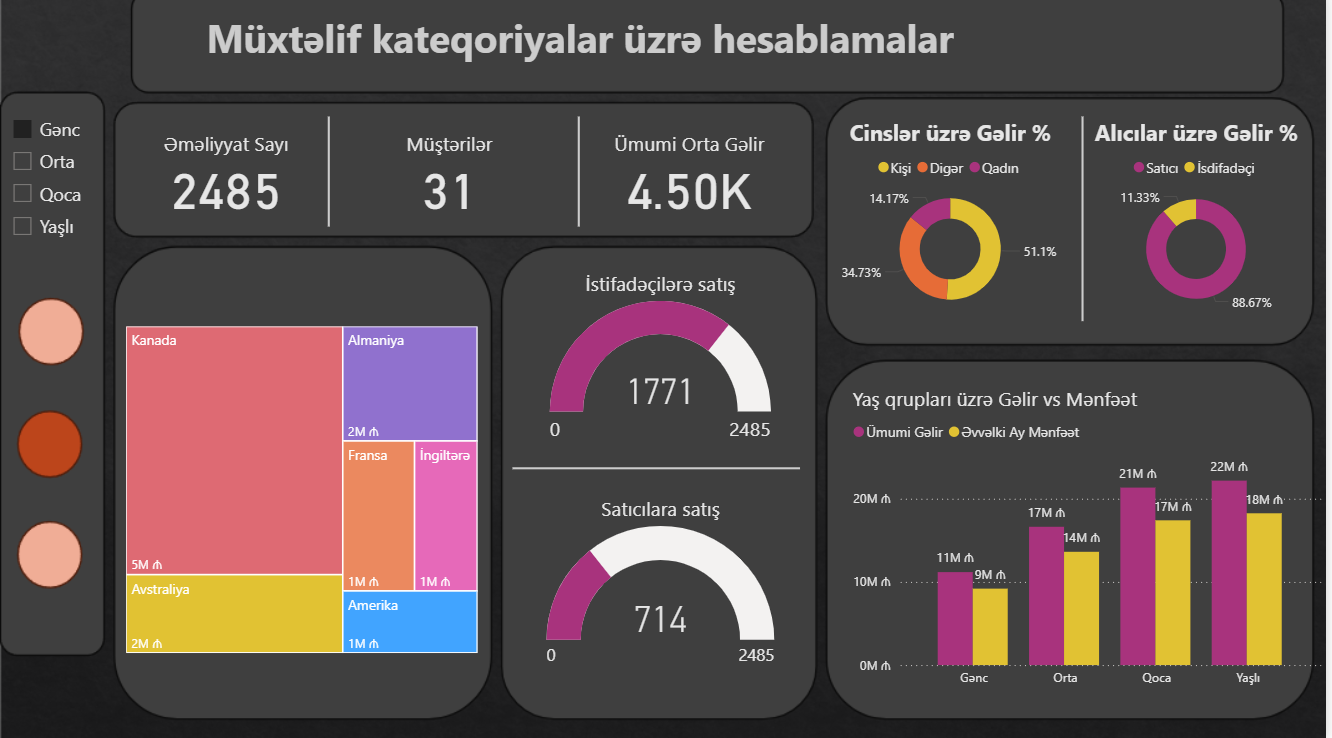

Layout of this report page (visuals, bound fields, positions):
{"tool":"powerbi","page":{"name":"Alıcı Analizi","canvas":[1280,720],"ordinal":1},"visuals":[{"type":"textbox","box":[193.8,12.5,788.8,82.5],"z":0},{"type":"card","title":"Əməliyyat Sayı","fields":{"Values":["Hesablamalar Customer.Əməliyyat sayı"]},"box":[112.5,131.2,212.5,82.5],"z":1000},{"type":"card","title":"Müştərilər","fields":{"Values":["Hesablamalar Customer.Müştərilər"]},"box":[327.5,131.2,213.8,82.5],"z":2000},{"type":"card","title":"Ümumi Orta Gəlir","fields":{"Values":["Hesablamalar Customer.Ümumi orta gəlir"]},"box":[558.8,131.2,213.8,82.5],"z":3000},{"type":"shape","box":[298.8,118.8,36.2,106.2],"z":4000},{"type":"shape","box":[540,118.8,36.2,106.2],"z":5000},{"type":"slicer","fields":{"Values":["CustomerTable.Yaş Qrupu"]},"box":[0,110,101.2,156.2],"z":6000},{"type":"donutChart","title":"Cinslər üzrə Gəlir %","fields":{"Category":["CustomerTable.Cins"],"Y":["Hesablamalar Satış.Ümumi Gəlir"]},"box":[803.8,118.8,227.5,197.5],"z":7000},{"type":"donutChart","title":"Alıcılar üzrə Gəlir %","fields":{"Y":["Hesablamalar Satış.Ümumi Gəlir"],"Category":["FactTable.Alıcı Tipi"]},"box":[1051.2,118.8,207.5,197.5],"z":8000},{"type":"shape","box":[1026.2,118.8,36.2,197.5],"z":9000},{"type":"gauge","title":"Satıcılara satış","fields":{"Y":["Hesablamalar Customer.Satıcıların əməliyyatı"],"MaxValue":["Hesablamalar Customer.Əməliyyat sayı"]},"box":[517.5,483.8,240,176.2],"z":10000},{"type":"gauge","title":"İstifadəçilərə satış","fields":{"MaxValue":["Hesablamalar Customer.Əməliyyat sayı"],"Y":["Hesablamalar Customer.İstifadəçilərin əməliyyatı"]},"box":[517.5,266.2,240,176.2],"z":11000},{"type":"shape","box":[495,442.5,277.5,30],"z":12000},{"type":"clusteredColumnChart","title":"Yaş qrupları üzrə Gəlir vs Mənfəət","fields":{"Category":["CustomerTable.Yaş Qrupu"],"Y":["Hesablamalar Satış.Ümumi Gəlir","Hesablamalar Satış.KA Mənfəət"]},"box":[817.5,377.5,462.5,300],"z":13000},{"type":"treemap","fields":{"Group":["CustomerTable.Country"],"Values":["Hesablamalar Satış.Ümumi Gəlir"]},"box":[117.5,316.2,348.8,325],"z":14000}]}

Visuals, with their boxes in screenshot pixels (x1, y1, x2, y2), scaled from the page's 1280x720 canvas onto the 1332x738 screenshot:
textbox: 202:13:1023:97
"Əməliyyat Sayı" card: 117:134:338:219
"Müştərilər" card: 341:134:563:219
"Ümumi Orta Gəlir" card: 582:134:804:219
shape: 311:122:349:231
shape: 562:122:600:231
slicer - CustomerTable.Yaş Qrupu: 0:113:105:273
"Cinslər üzrə Gəlir %" donutChart: 836:122:1073:324
"Alıcılar üzrə Gəlir %" donutChart: 1094:122:1310:324
shape: 1068:122:1106:324
"Satıcılara satış" gauge: 539:496:788:676
"İstifadəçilərə satış" gauge: 539:273:788:453
shape: 515:454:804:484
"Yaş qrupları üzrə Gəlir vs Mənfəət" clusteredColumnChart: 851:387:1331:694
treemap - CustomerTable.Country x Hesablamalar Satış.Ümumi Gəlir: 122:324:485:657
